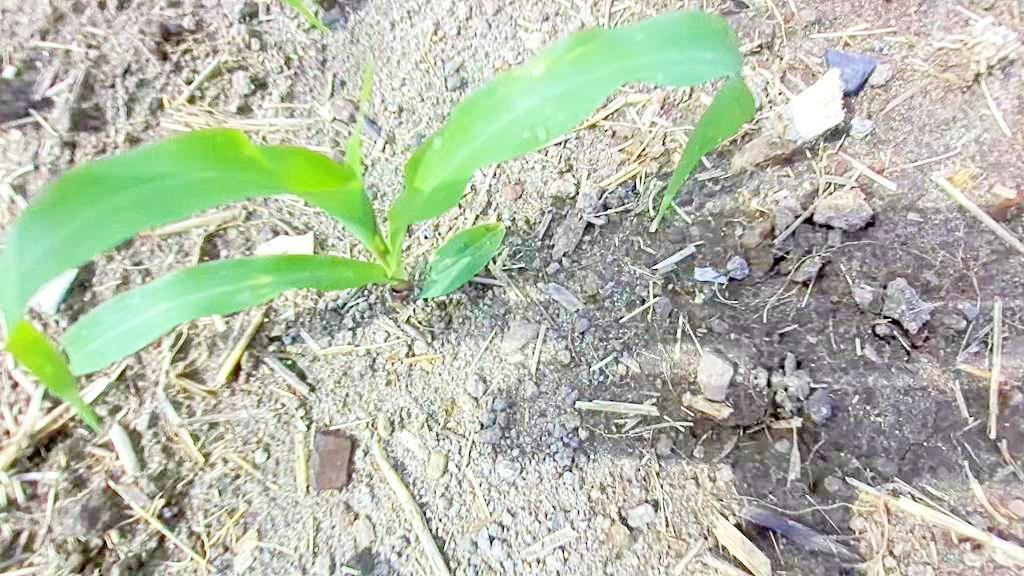BroWeed: (949, 165, 977, 187), (293, 41, 306, 57), (289, 52, 299, 60)
